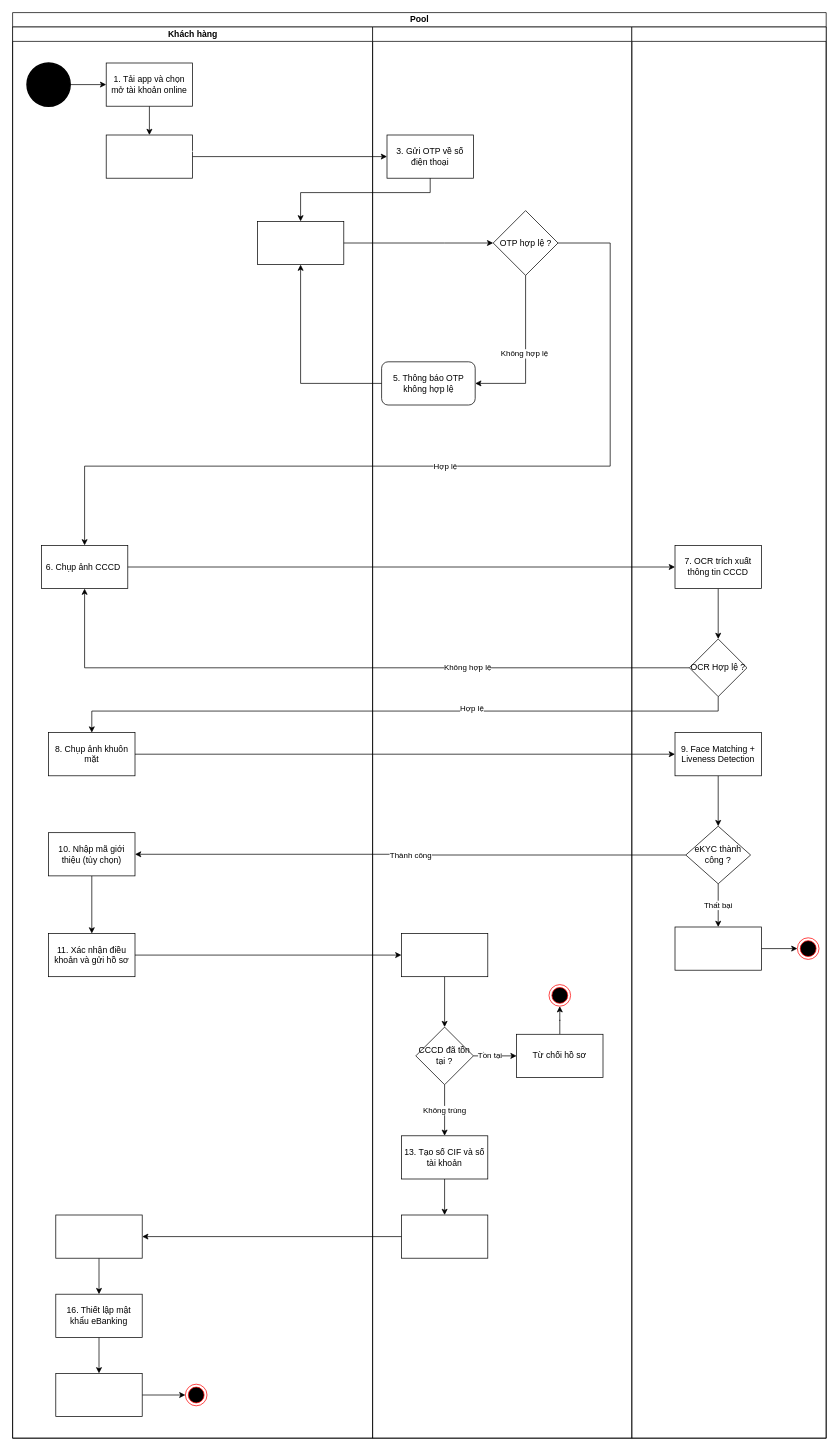
This 839x1451 diagram has some shape labels left out. The box of each missing label's shape, as (x1, y1, x2, y2) in pixels:
12. Kiểm tra CCCD trùng lặp: (401, 933, 488, 977)
14. Gửi thông báo cho khách hàng (App + SMS + Email): (401, 1214, 488, 1258)
15. Nhận thông báo mở tài khoản thành công: (55, 1214, 142, 1258)
17. Thiết lập mã PIN giao dịch: (55, 1373, 142, 1417)
2. Nhập số điện thoại: (105, 134, 193, 178)
4. Nhập mã OTP: (257, 221, 344, 265)
Chuyển sang xét duyệt thủ công: (674, 926, 761, 970)
Hệ thống eKYC: (631, 26, 826, 1438)
Ngân hàng: (372, 26, 632, 1438)
